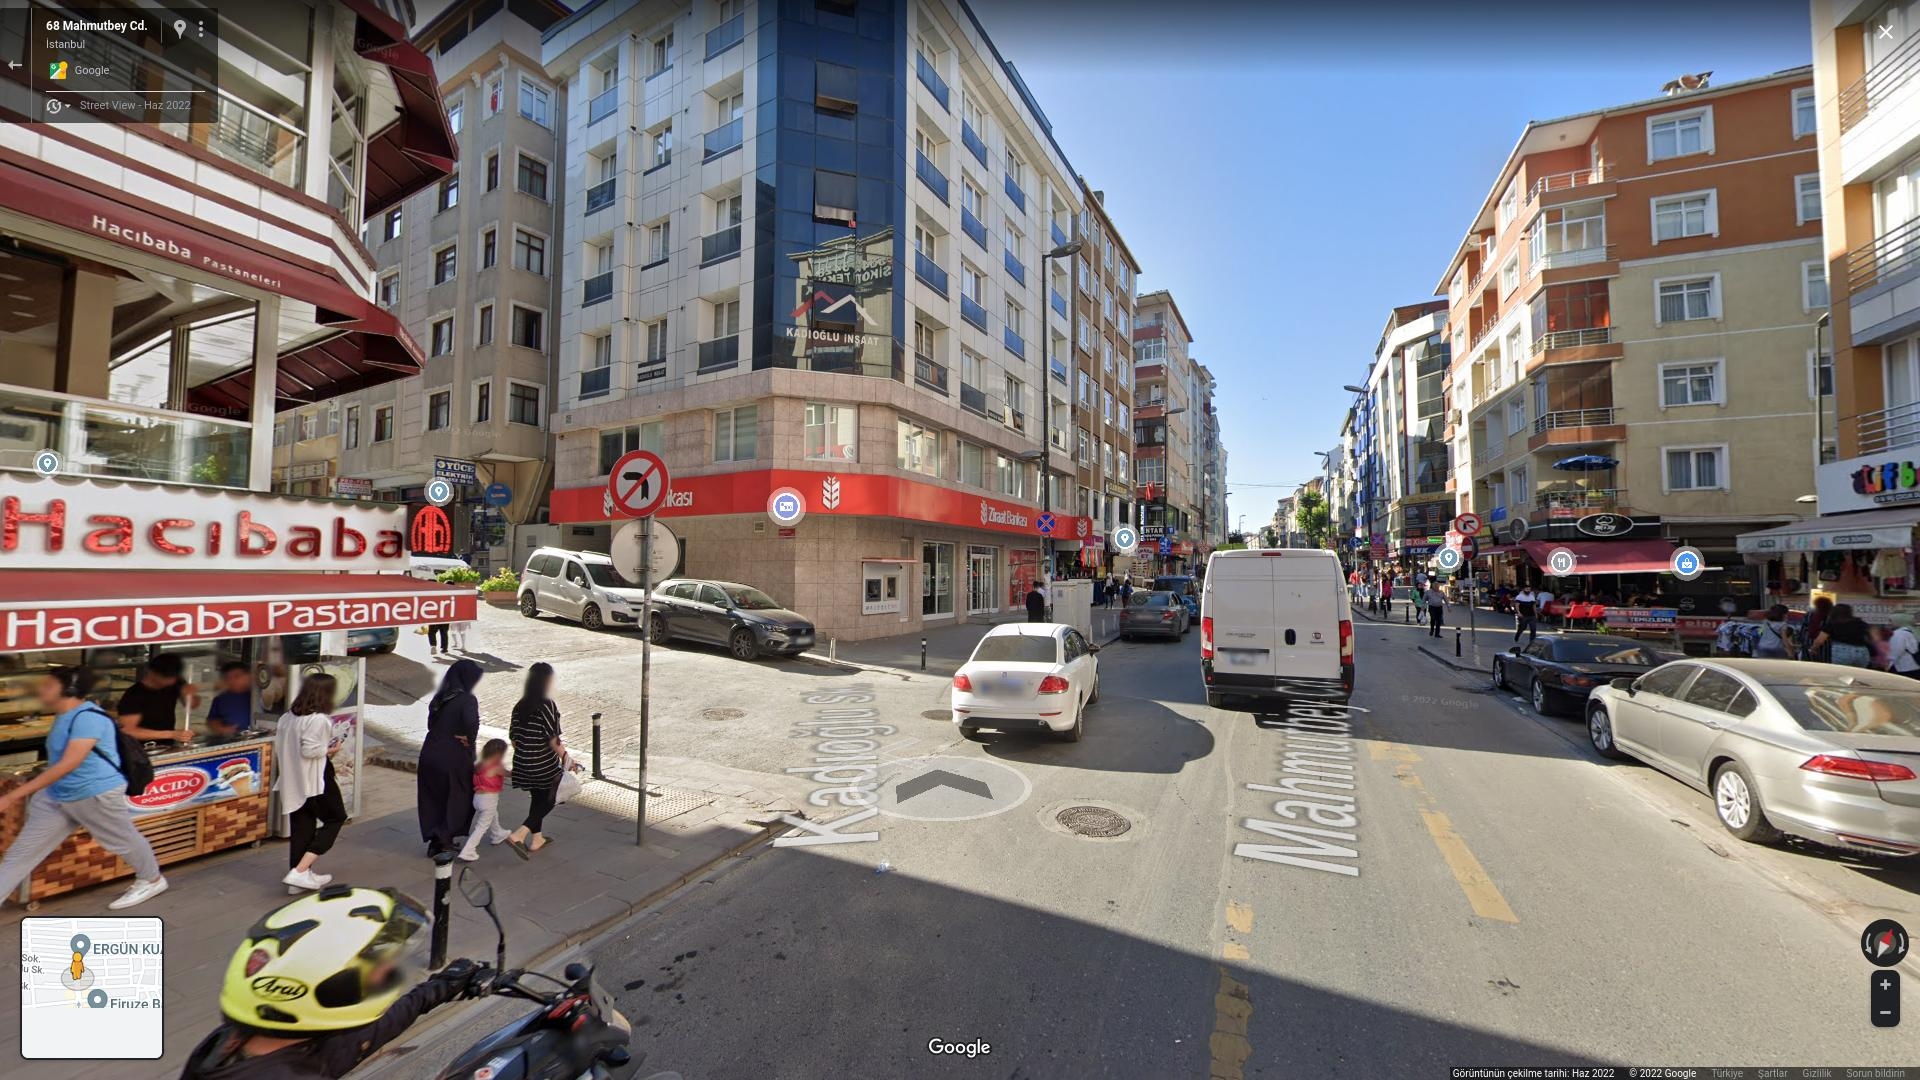leftturnsareforbidden: (609, 448, 669, 517)
